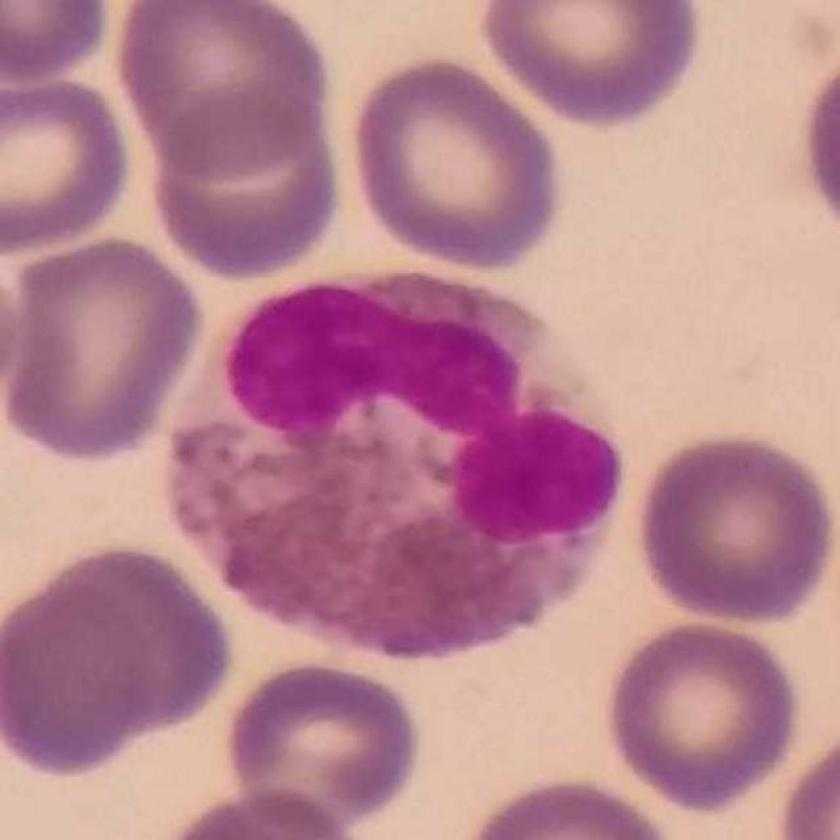eosinophil: (165, 262, 625, 656)
